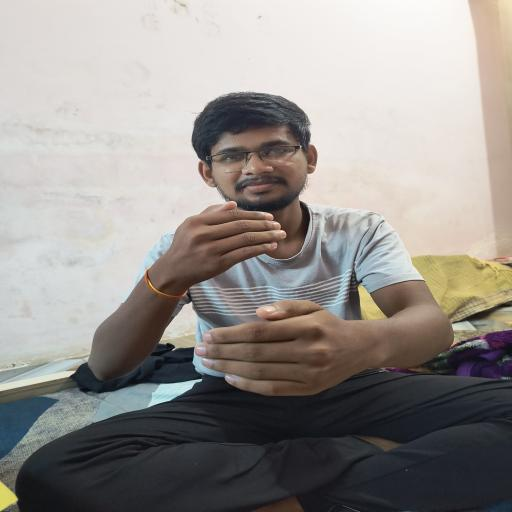Good: (150, 190, 377, 412)
